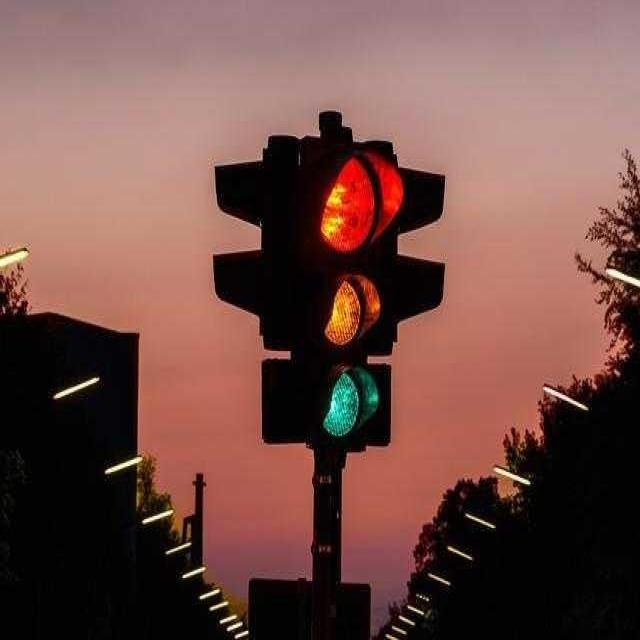Traffic Light -Green-: (302, 354, 388, 456)
Traffic Light -Red-: (303, 144, 403, 262)
Traffic Light -Yellow-: (304, 267, 392, 350)
